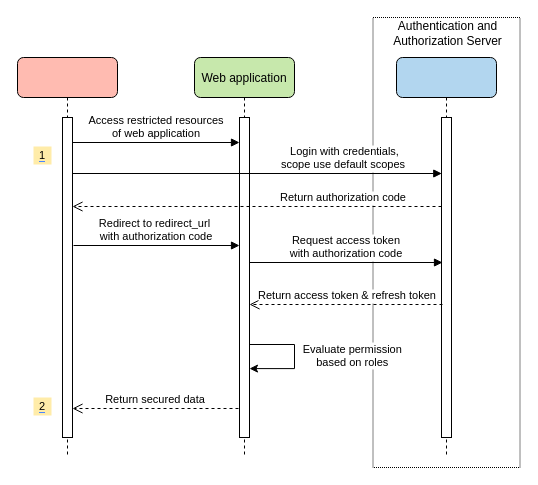
This 538x485 diagram has some shape labels left out. The shapes that lost their labels are listed below. From the top down, each one's box as (x1, y1, x2, y2) in pixels, then its label:
(16, 56, 118, 458): Browser
(396, 56, 496, 458): Azure AD
